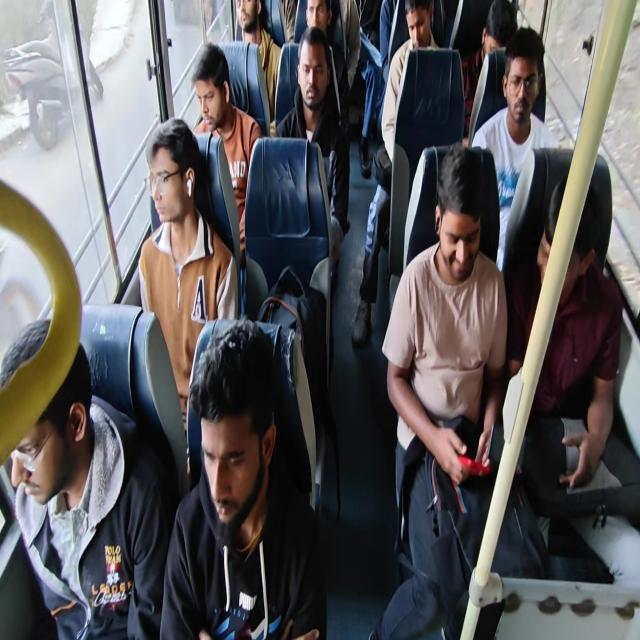person: (2, 1, 637, 638), (376, 142, 519, 638), (505, 168, 639, 584), (1, 318, 170, 638), (159, 316, 326, 638), (138, 117, 239, 454), (351, 0, 445, 346), (470, 26, 557, 272), (274, 25, 350, 272), (190, 42, 262, 260), (378, 0, 442, 166), (461, 0, 517, 142), (298, 0, 350, 130), (234, 0, 282, 121)
